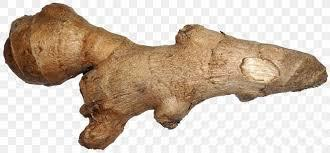non-mango: (3, 1, 327, 150)
